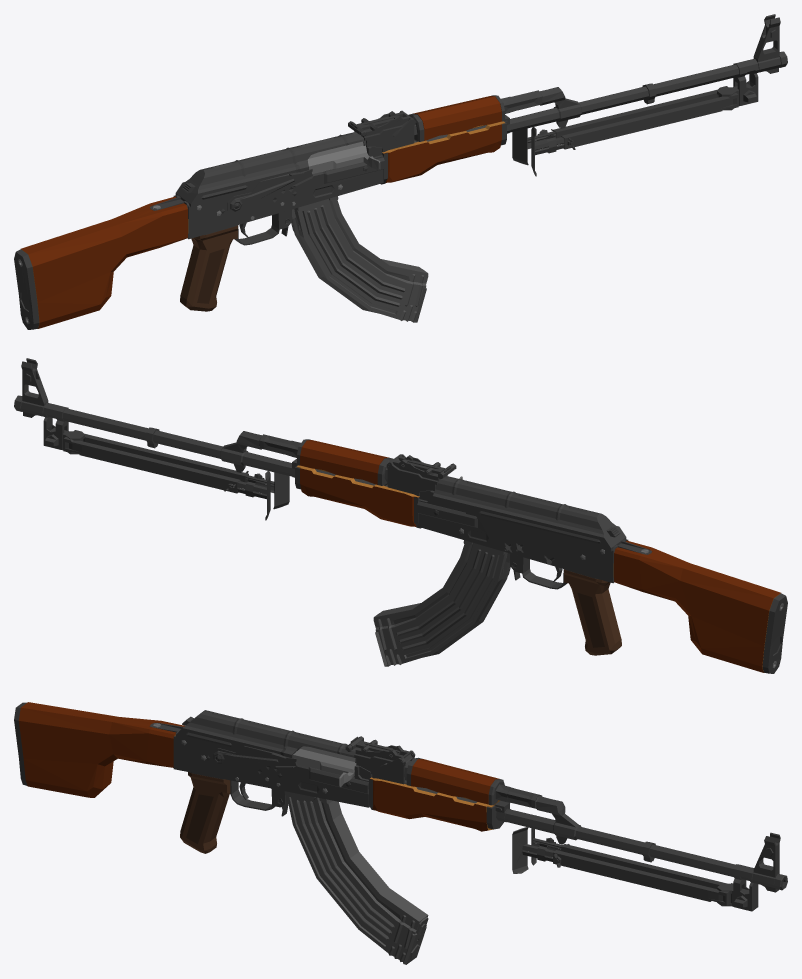
3 renders of one model, top to bottom at view 1: azimuth 30°, elevation 25°; view 2: azimuth 150°, elevation 25°; view 3: azimuth 330°, elevation 25°, orthographic.
Parts seen in each view (by area): view 1: receiver_23, stock_1, body_20, dust_cover_15, handguard_lower_11, bipod_R_22, grip_13, bipod_L_21, handguard_upper_10, bolt_carrier_16, safety_selector_3, gas_tube_14; view 2: receiver_23, stock_1, body_20, dust_cover_15, handguard_lower_11, bipod_L_21, grip_13, handguard_upper_10, bipod_R_22, gas_tube_14; view 3: receiver_23, stock_1, body_20, dust_cover_15, bipod_R_22, handguard_lower_11, grip_13, handguard_upper_10, bipod_L_21, bolt_carrier_16, safety_selector_3, gas_tube_14 (+1 smaller).
Boxes of the visible parts, x1=… form: receiver_23: x1=150, y1=14, x2=780, y2=245; stock_1: x1=14, y1=196, x2=188, y2=329; body_20: x1=291, y1=196, x2=428, y2=322; dust_cover_15: x1=175, y1=132, x2=364, y2=207; handguard_lower_11: x1=382, y1=121, x2=504, y2=182; bipod_R_22: x1=531, y1=92, x2=738, y2=176; grip_13: x1=180, y1=225, x2=237, y2=311; bipod_L_21: x1=512, y1=86, x2=727, y2=165; handguard_upper_10: x1=413, y1=96, x2=501, y2=140; bolt_carrier_16: x1=307, y1=141, x2=380, y2=173; safety_selector_3: x1=227, y1=169, x2=312, y2=213; gas_tube_14: x1=408, y1=90, x2=542, y2=141; receiver_23: x1=21, y1=358, x2=651, y2=589; stock_1: x1=613, y1=540, x2=787, y2=673; body_20: x1=373, y1=540, x2=510, y2=666; dust_cover_15: x1=432, y1=476, x2=626, y2=551; handguard_lower_11: x1=297, y1=465, x2=419, y2=526; bipod_L_21: x1=63, y1=436, x2=270, y2=520; grip_13: x1=564, y1=569, x2=621, y2=655; handguard_upper_10: x1=300, y1=440, x2=388, y2=484; bipod_R_22: x1=74, y1=430, x2=289, y2=509; gas_tube_14: x1=259, y1=434, x2=393, y2=485; receiver_23: x1=149, y1=723, x2=783, y2=911; stock_1: x1=14, y1=702, x2=184, y2=797; body_20: x1=284, y1=791, x2=428, y2=964; dust_cover_15: x1=175, y1=710, x2=361, y2=757; bipod_R_22: x1=512, y1=827, x2=729, y2=905; handguard_lower_11: x1=370, y1=777, x2=499, y2=831; grip_13: x1=180, y1=772, x2=230, y2=853; handguard_upper_10: x1=411, y1=759, x2=499, y2=804; bipod_L_21: x1=531, y1=828, x2=733, y2=888; bolt_carrier_16: x1=292, y1=746, x2=537, y2=801; safety_selector_3: x1=211, y1=746, x2=296, y2=768; gas_tube_14: x1=404, y1=757, x2=542, y2=808.
Bounding box in the file's own units: 1.07 × 0.2859 × 0.0763.
